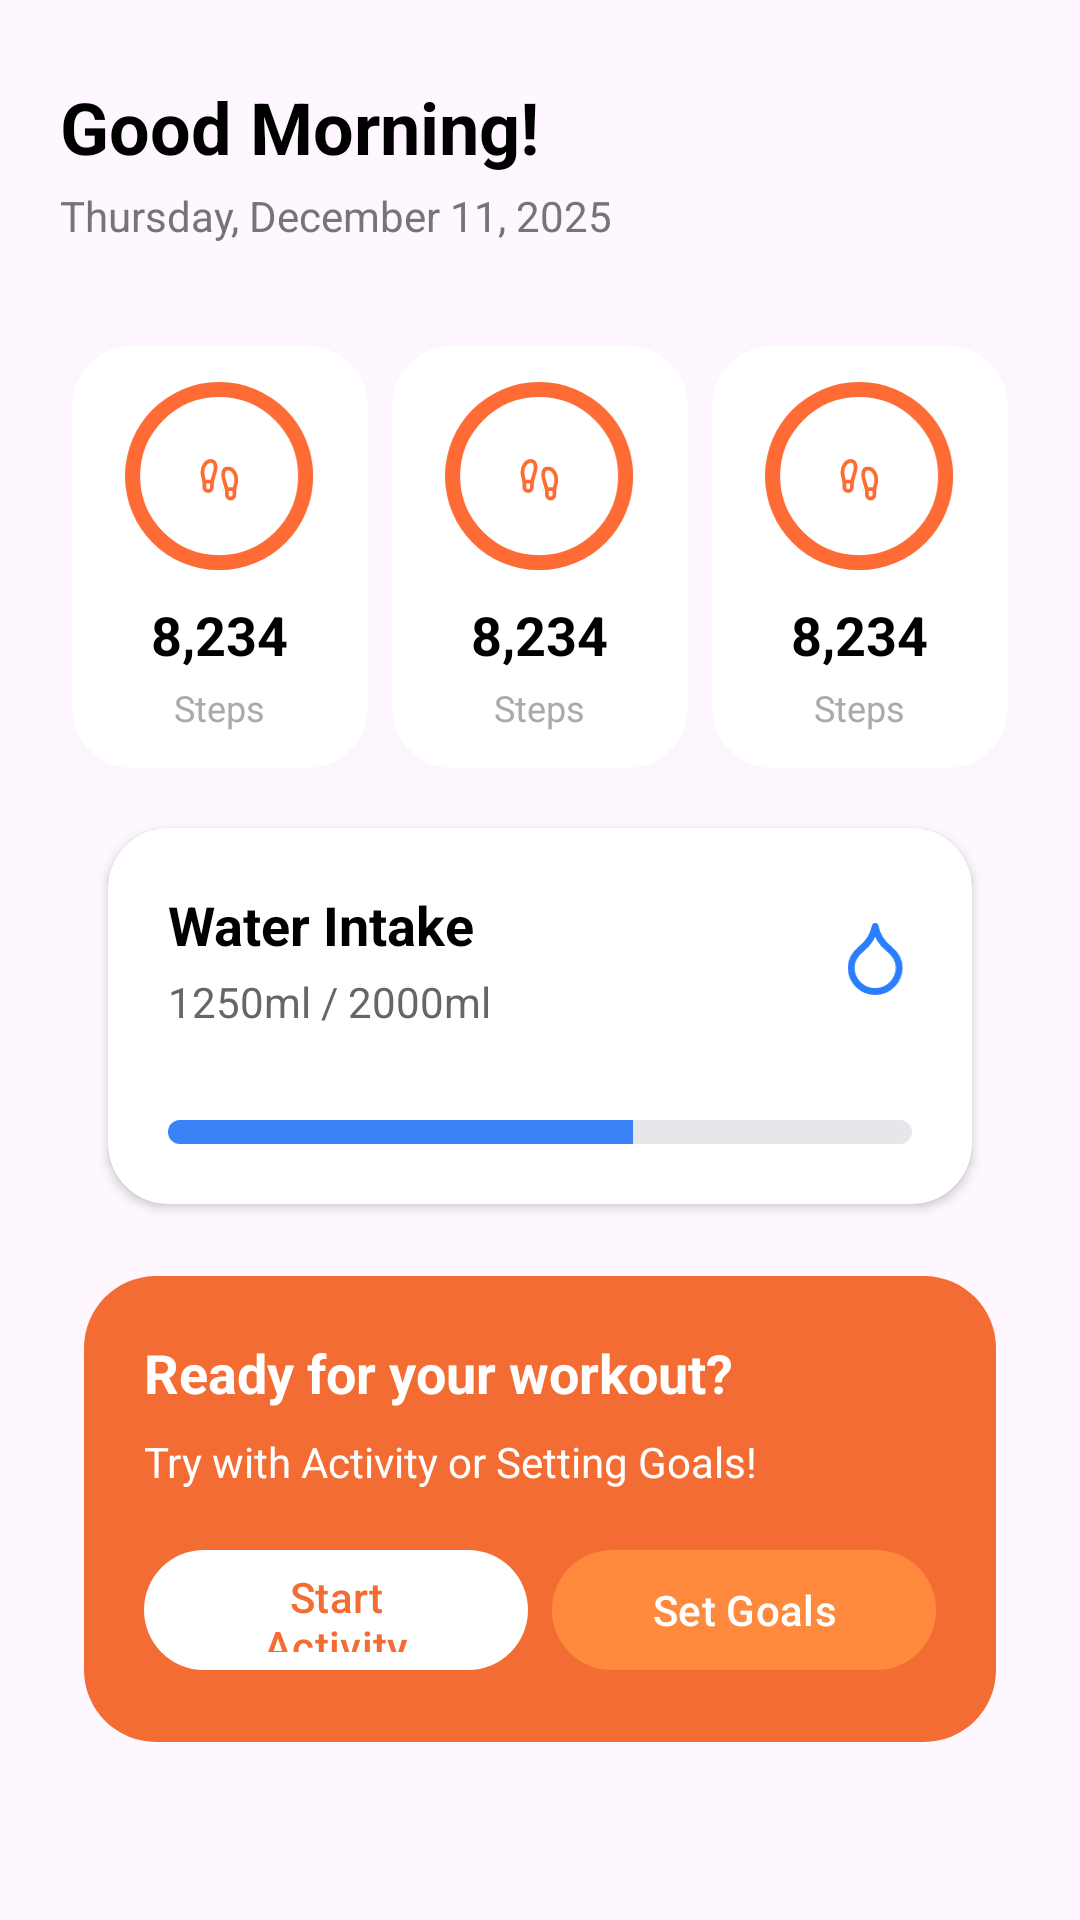

Icon bounding boxes for this 1080px×1920px phone screenshot, format (x1, y1, x2, y2):
water: (848, 923, 903, 995)
